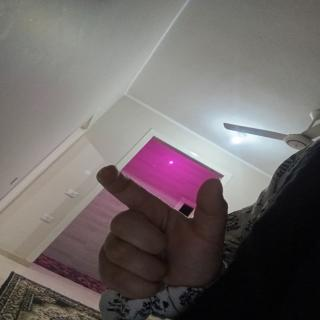NOON: (82, 154, 243, 301)
